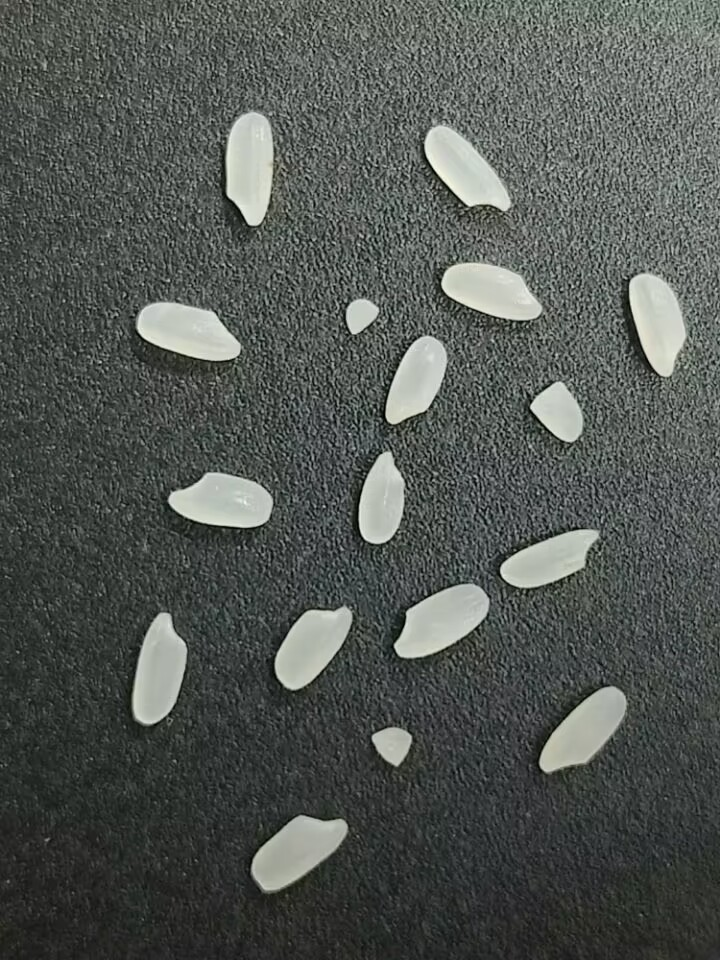broken: (527, 379, 586, 446), (368, 725, 416, 770), (335, 295, 385, 338)
rice: (535, 684, 633, 774), (387, 581, 492, 661), (422, 123, 510, 214), (248, 814, 348, 893), (273, 602, 353, 693), (134, 299, 244, 362), (129, 610, 189, 725), (441, 260, 545, 324), (168, 469, 274, 531), (627, 272, 687, 377), (499, 527, 602, 588), (223, 110, 274, 228), (384, 334, 447, 425), (355, 449, 407, 546)
